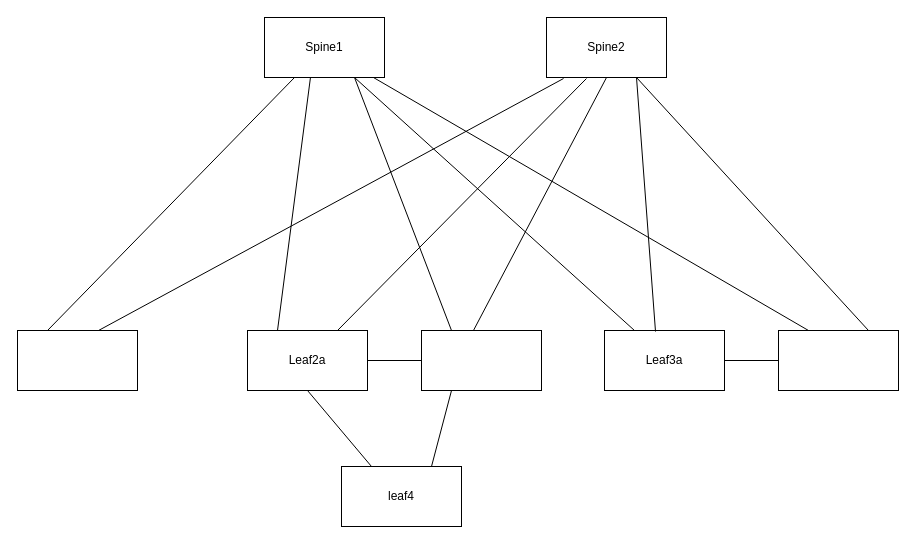
This 916x544 diagram has some shape labels left out. The shapes that lost their labels are listed below. From the top down, each one's centre as x and y in pixels, then its label:
(77,360): Leaf1
(481,360): Leaf2b
(838,360): Leaf3b
